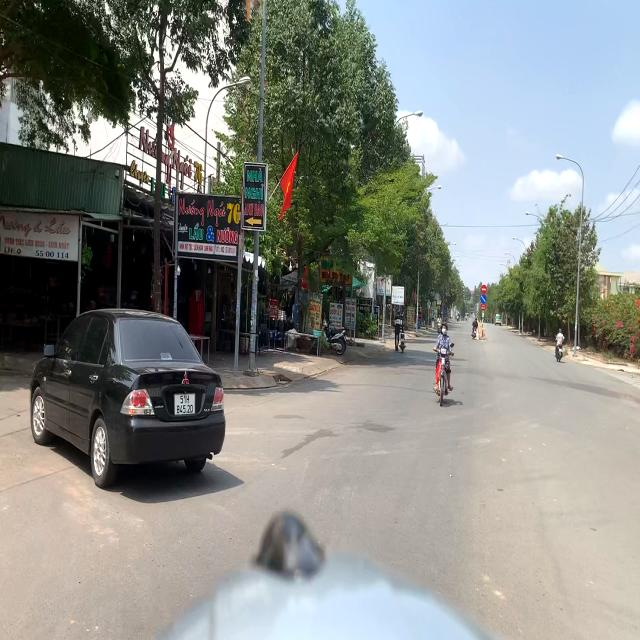P.102: (481, 284, 487, 294)
R.302a: (481, 294, 486, 304)
